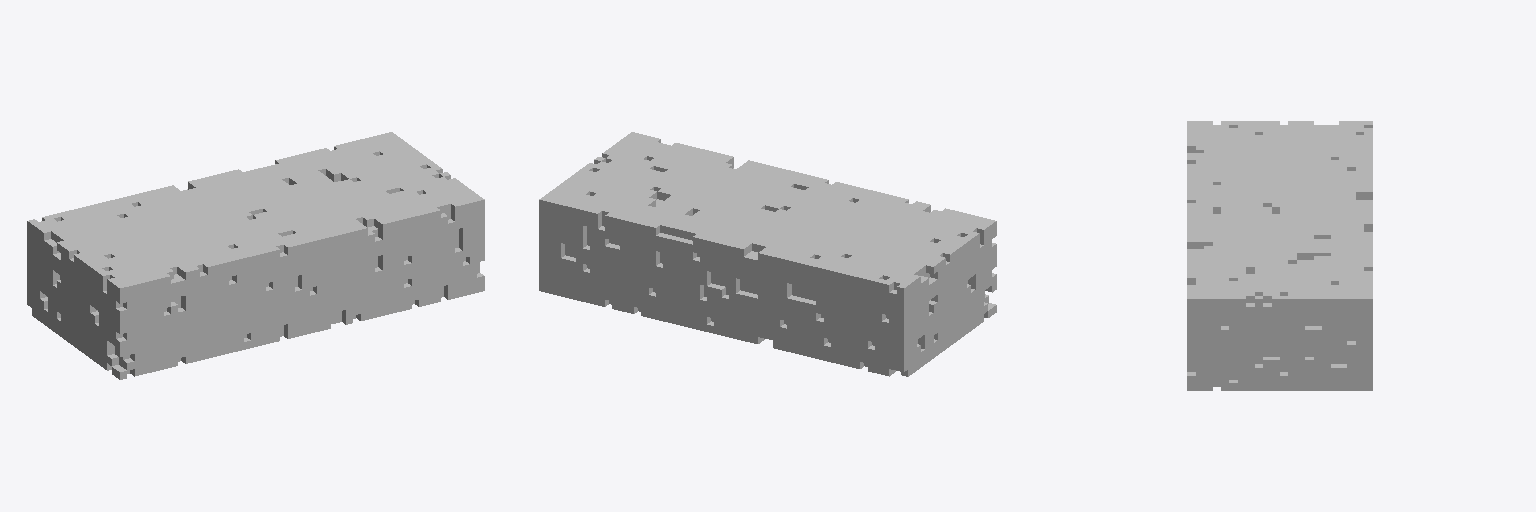
Rendered from mattone rotto.obj.
3 views of the same model, side by side, from view 1: azimuth 30°, elevation 25°; view 2: azimuth 150°, elevation 25°; view 3: azimuth 270°, elevation 25° (orthographic).
Parts seen in each view (by area): view 1: object 1; view 2: object 1; view 3: object 1.
Boxes of the visible parts, <box> form: object 1: <box>27,132,484,379</box>; object 1: <box>539,132,996,376</box>; object 1: <box>1187,121,1372,390</box>.
Bounding box in the file's own units: 5 × 1.2 × 2.2.